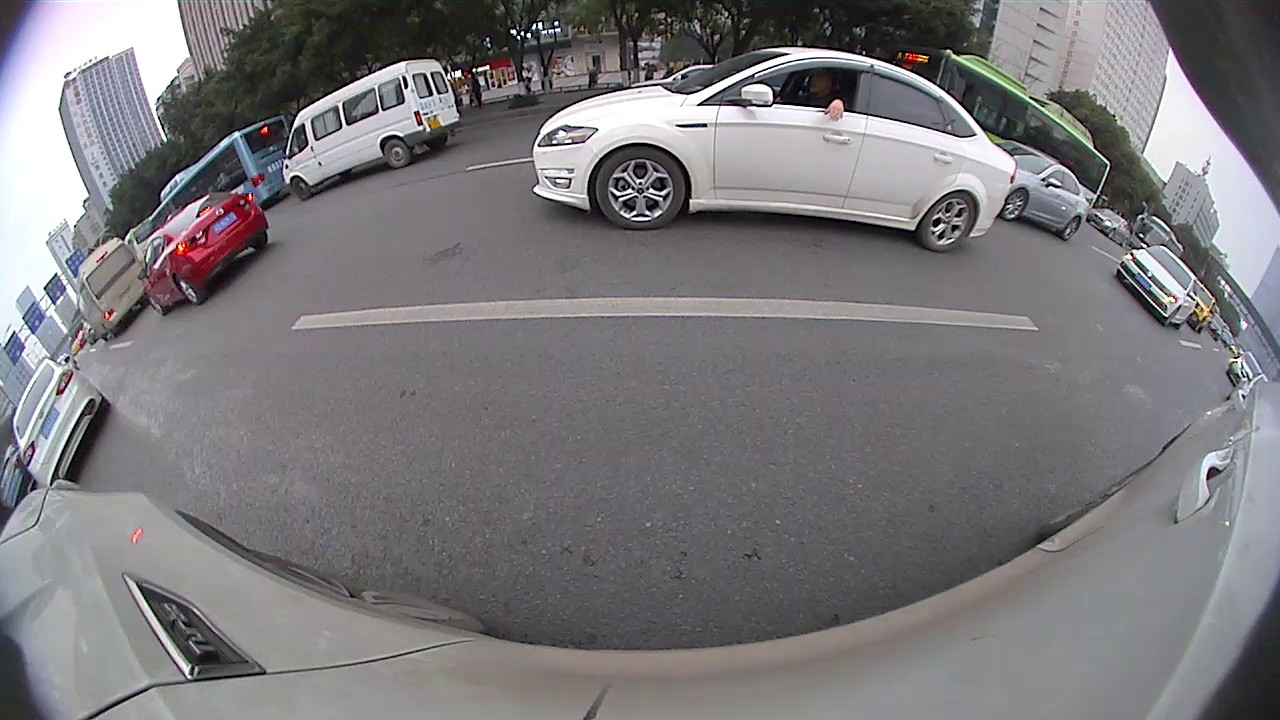bus: (894, 45, 1110, 206), (154, 118, 289, 220), (76, 238, 144, 335)
car: (533, 47, 1008, 253), (281, 59, 459, 200), (143, 192, 269, 315), (12, 361, 110, 486), (990, 143, 1090, 240), (1116, 245, 1200, 330)
front: (597, 148, 684, 226), (999, 187, 1026, 220), (144, 293, 168, 316), (288, 178, 312, 199)
rear: (923, 192, 973, 249), (173, 274, 204, 301), (383, 140, 408, 168), (1058, 217, 1082, 241)
